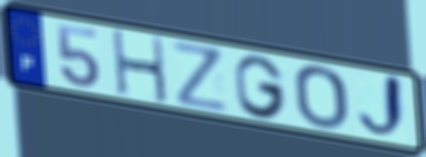5: (54, 21, 103, 89)
G: (232, 53, 289, 121)
H: (109, 27, 171, 106)
J: (355, 71, 410, 142)
O: (292, 64, 350, 131)
Z: (170, 39, 231, 115)
